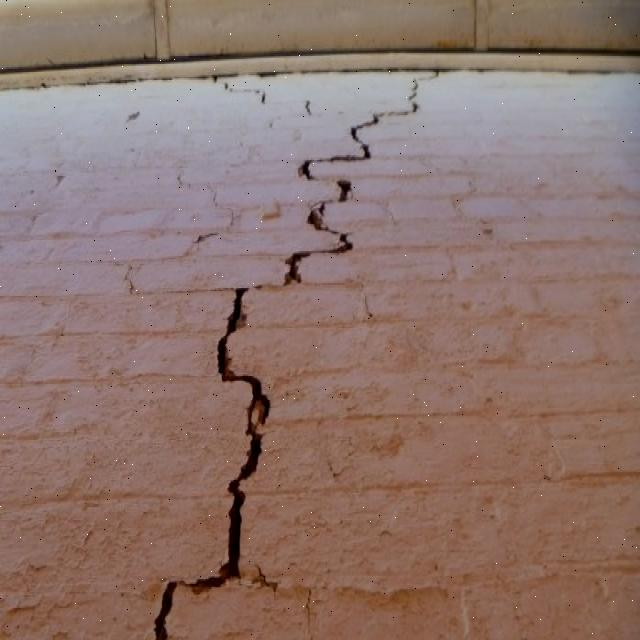crack: (147, 71, 433, 639)
